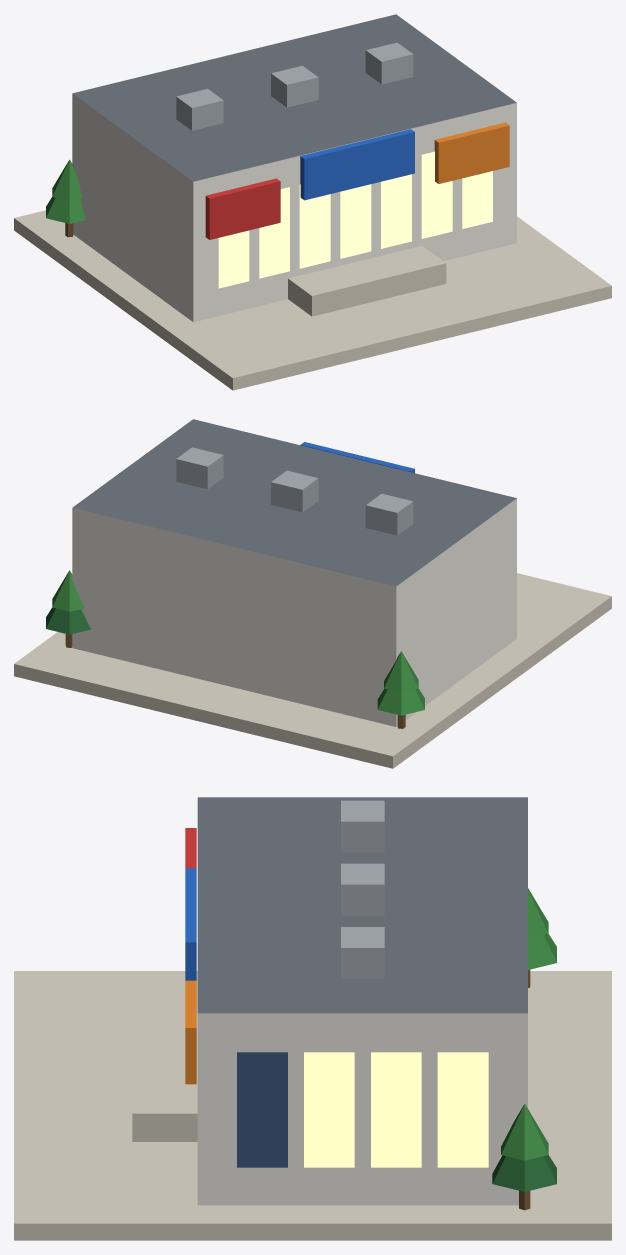
The picture shows the model from 3 angles, top to bottom: view 1: azimuth 30°, elevation 25°; view 2: azimuth 150°, elevation 25°; view 3: azimuth 270°, elevation 25°; orthographic projection. The views are drawn at different scales.
Parts seen in each view (by area): view 1: b19; view 2: b19; view 3: b19.
Part boxes in pixels (x1,y1,x2,y2): b19: [14, 14, 611, 390]; b19: [14, 419, 611, 768]; b19: [14, 797, 611, 1240].
Size of the model in its own units: 0.96 by 0.425 by 0.96.
